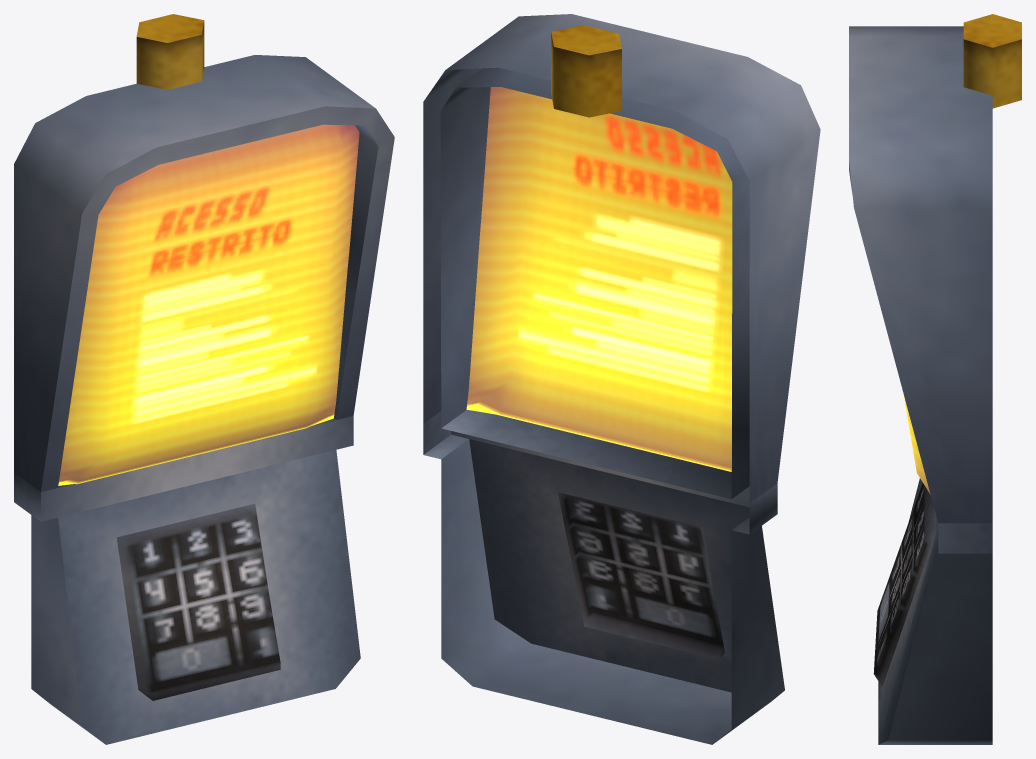
File: SM_PROP_MONITOR_DEVICE_01.fbx
The picture shows the model from 3 angles, left to right: view 1: azimuth 30°, elevation 25°; view 2: azimuth 150°, elevation 25°; view 3: azimuth 270°, elevation 25°; orthographic projection. The views are drawn at different scales.
Visible parts, largest first — view 1: SM_PROP_MONITOR_DEVICE_01; view 2: SM_PROP_MONITOR_DEVICE_01; view 3: SM_PROP_MONITOR_DEVICE_01.
Boxes of the visible parts, x1=… form: SM_PROP_MONITOR_DEVICE_01: x1=14, y1=14, x2=394, y2=744; SM_PROP_MONITOR_DEVICE_01: x1=423, y1=14, x2=820, y2=744; SM_PROP_MONITOR_DEVICE_01: x1=849, y1=14, x2=1021, y2=744.
Bounding box in the file's own units: 0.3533 × 0.6974 × 0.1655.
